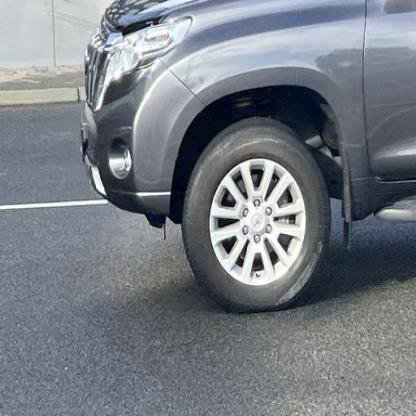Tire: (183, 119, 332, 313)
